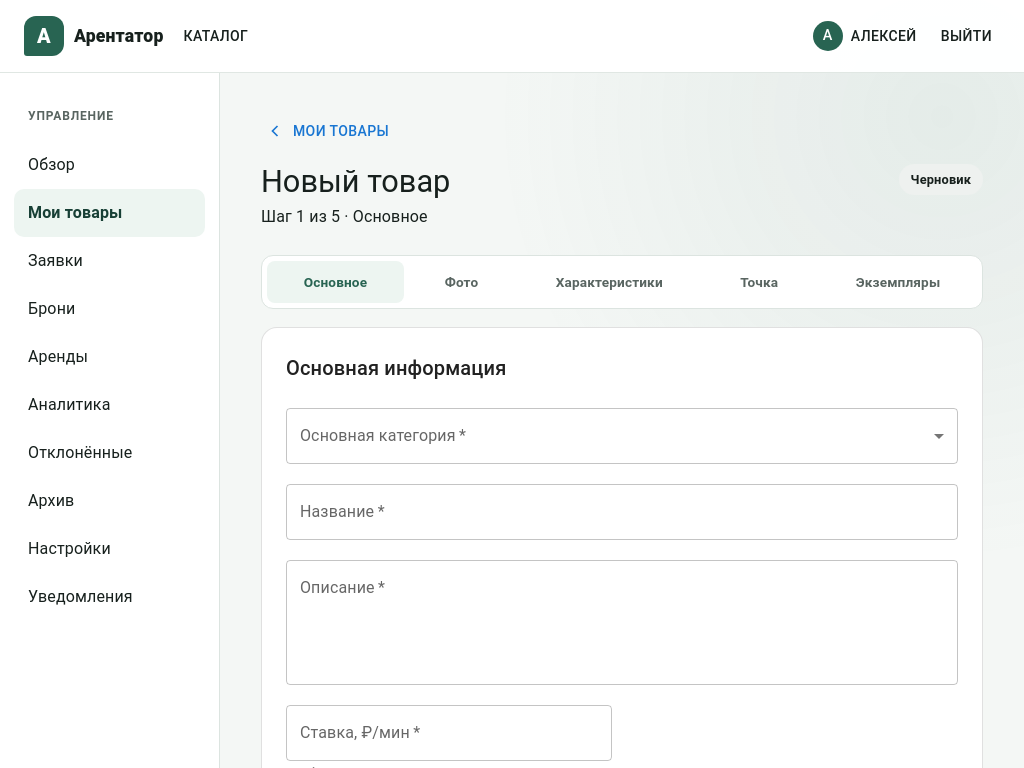
creates a draft then opens its photo step
The image size is (1024, 768).
Expected: the heading "Новый товар" is shown, x1=261 y1=164 x2=450 y2=199
Select "Инструменты" in the dropdown labelled "Основная категория *" at [622, 436], box x1=286 y1=408 x2=958 y2=464
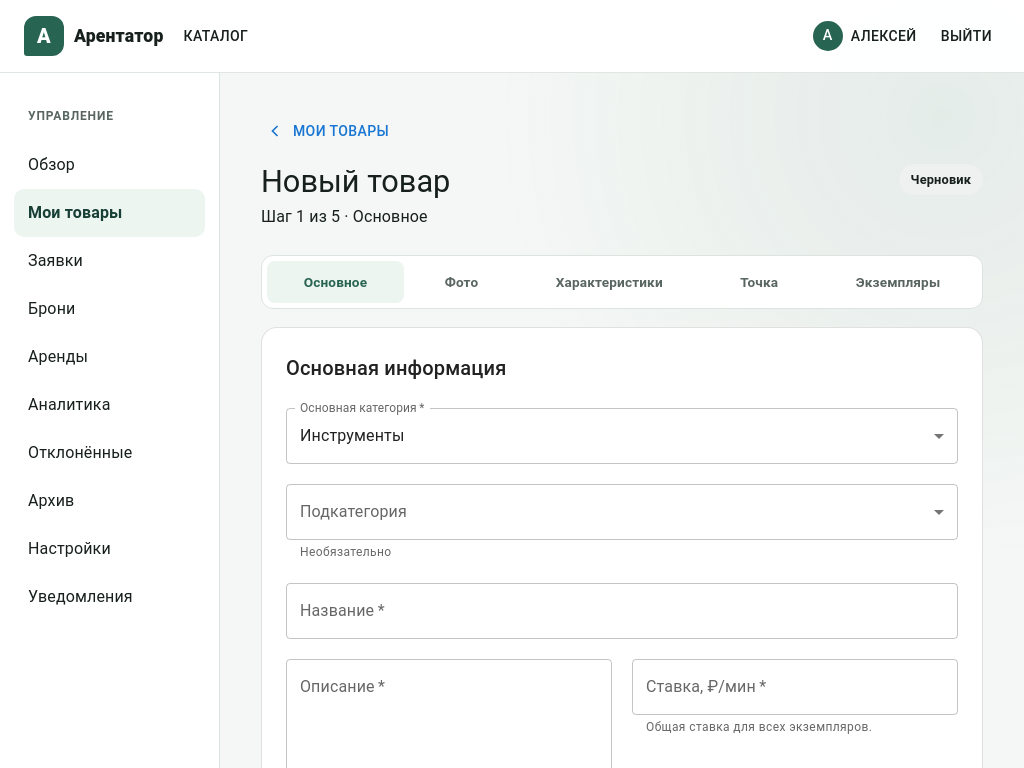
Select "Дрели" in the dropdown labelled "Подкатегория" at [622, 512], box x1=286 y1=484 x2=958 y2=540
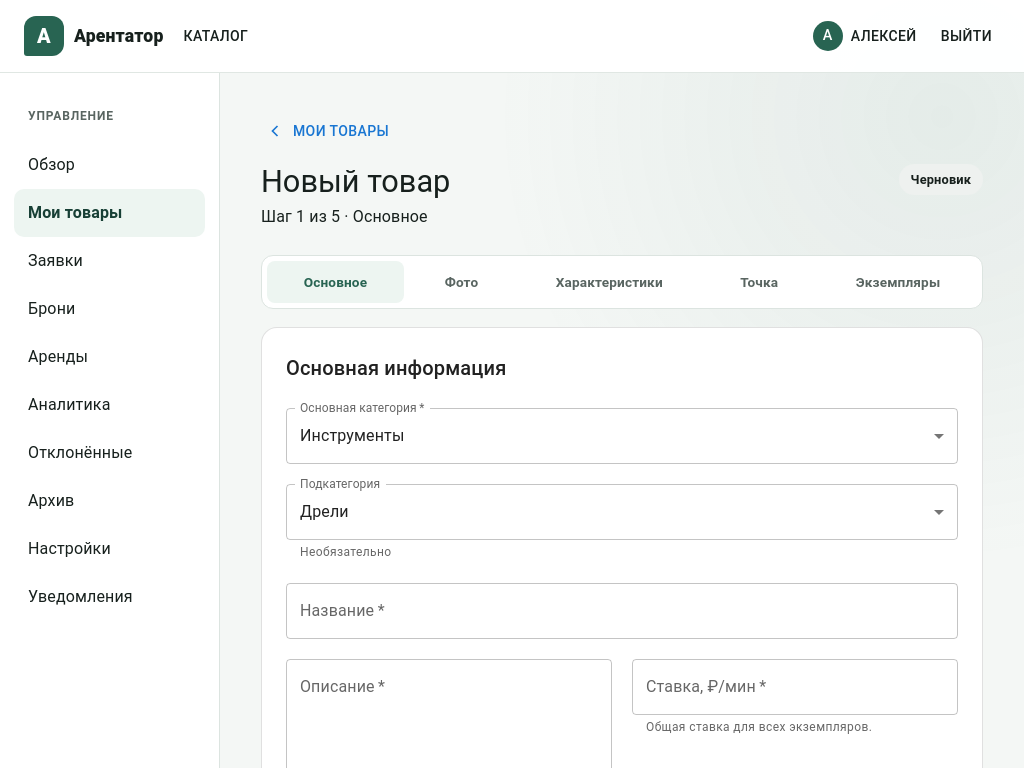
Type "Дрель" into the field labelled "Название *" at [622, 611], box x1=286 y1=583 x2=958 y2=639
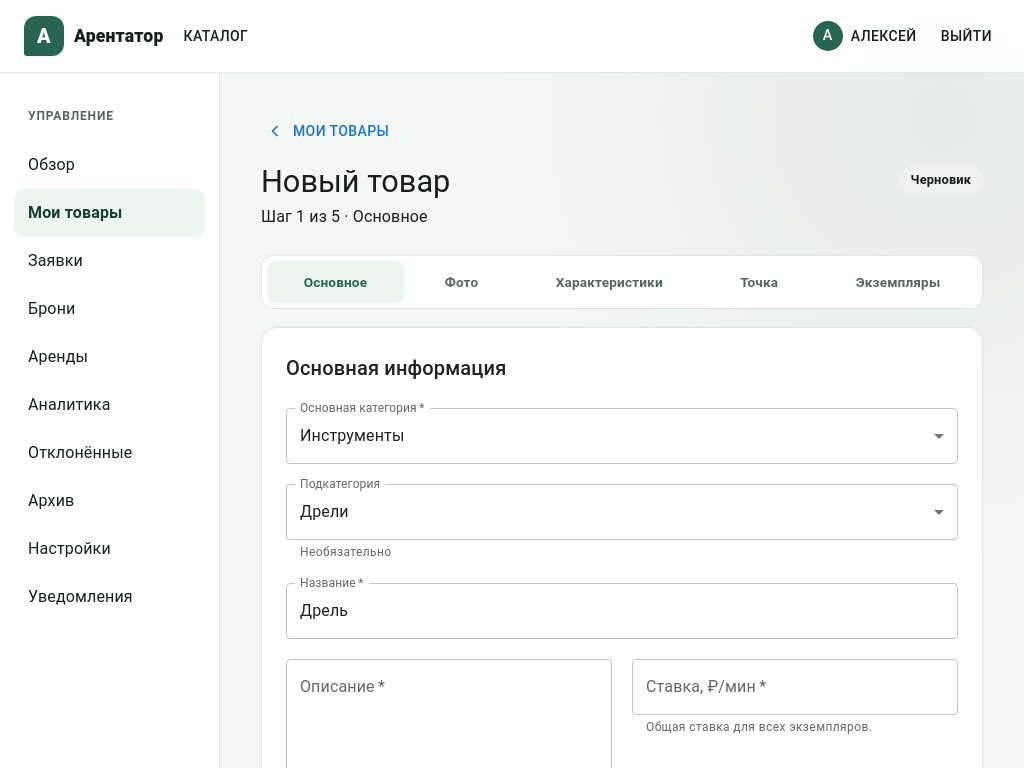
Type "Для ремонта" into the text box labelled "Описание *" at [449, 721], box x1=300 y1=675 x2=598 y2=767
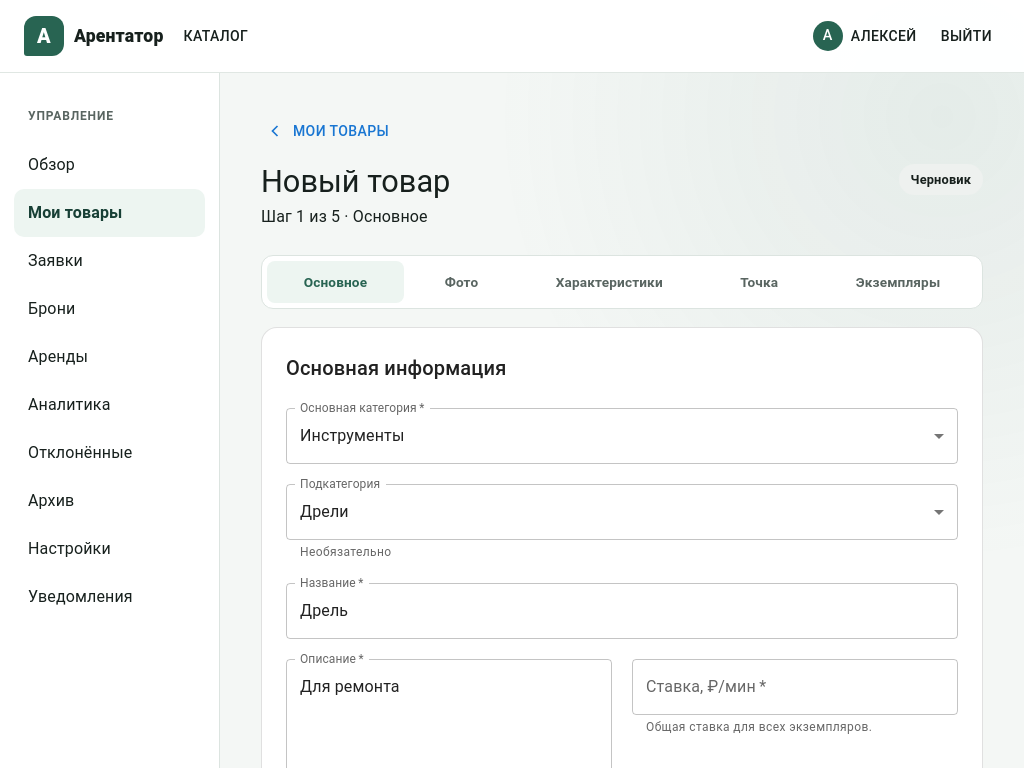
Type "3" into the number field labelled "Ставка, ₽/мин *" at [795, 687], box x1=632 y1=659 x2=958 y2=715
(page scrolled)
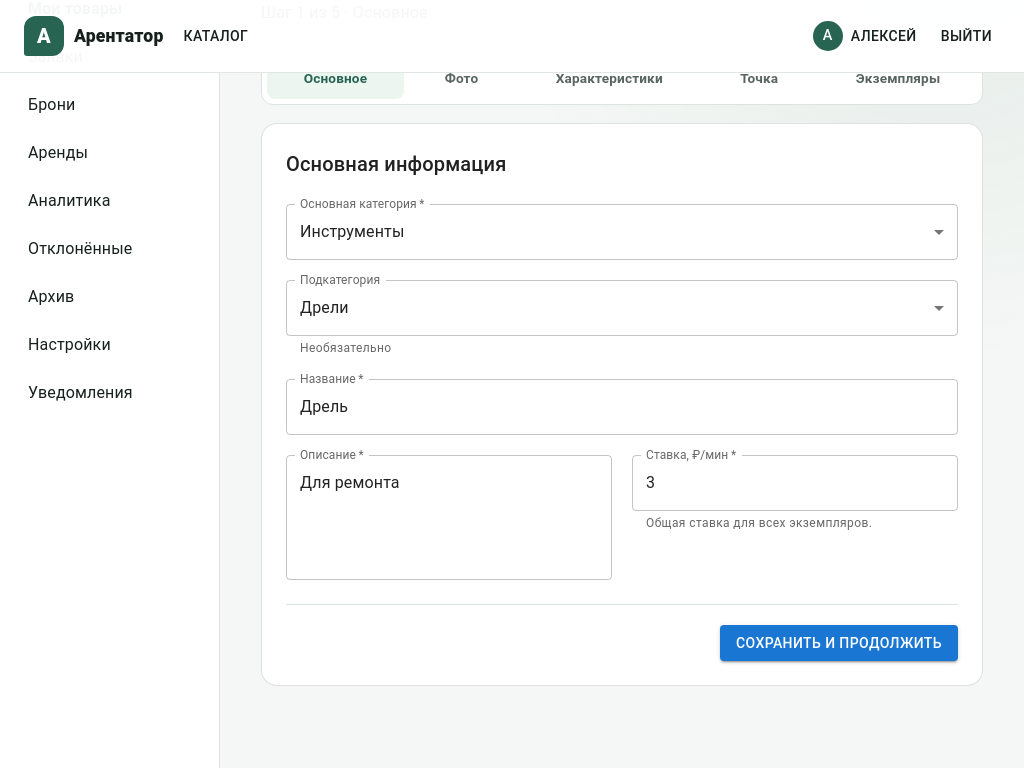
Click the button "Сохранить и продолжить" at [839, 643], box x1=720 y1=625 x2=958 y2=661
(page scrolled)
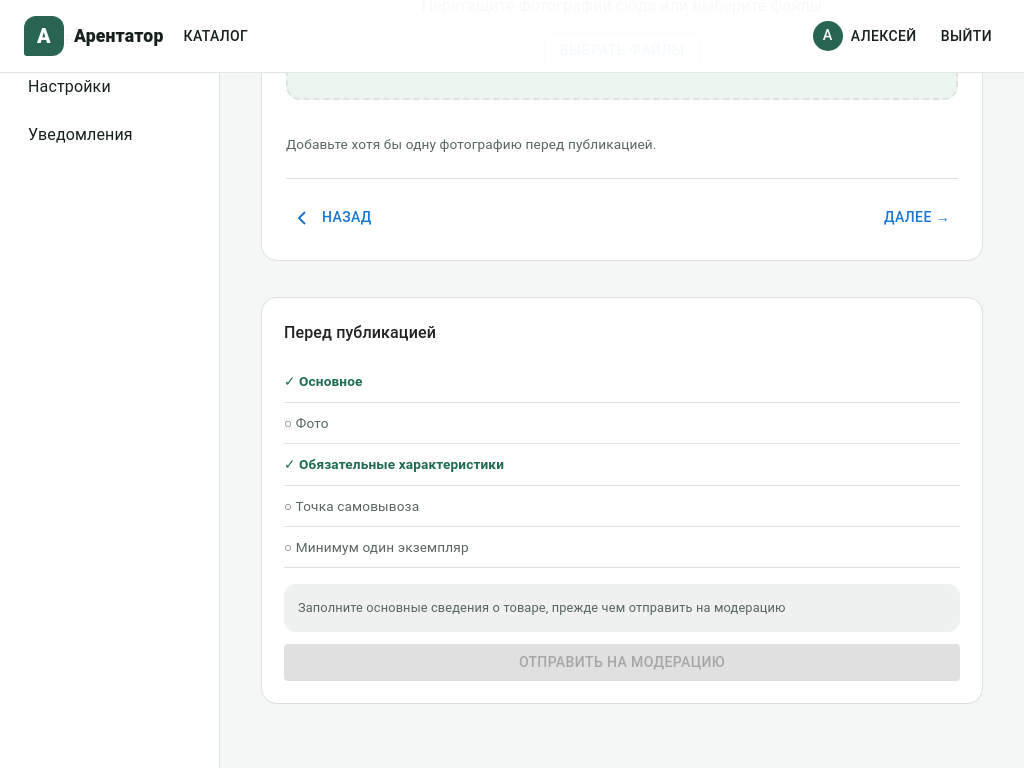
Expected: the button "Отправить на модерацию" is disabled, x1=284 y1=644 x2=960 y2=681
Expected: the text "Заполните основные сведения о товаре, прежде чем отправить на модерацию" is shown, x1=284 y1=584 x2=960 y2=632
